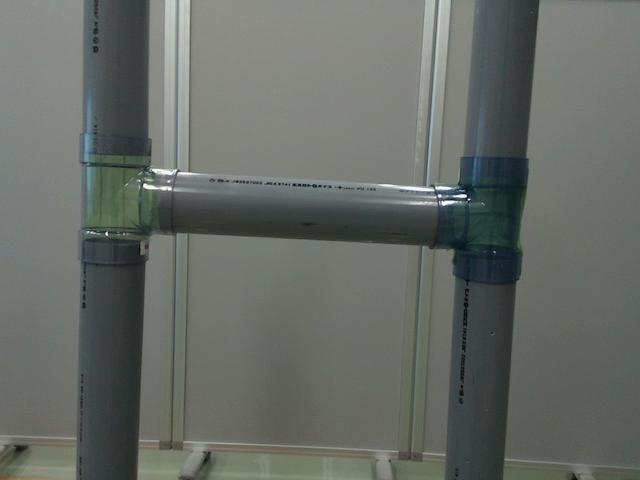junction: (76, 140, 176, 270), (426, 157, 530, 270)
